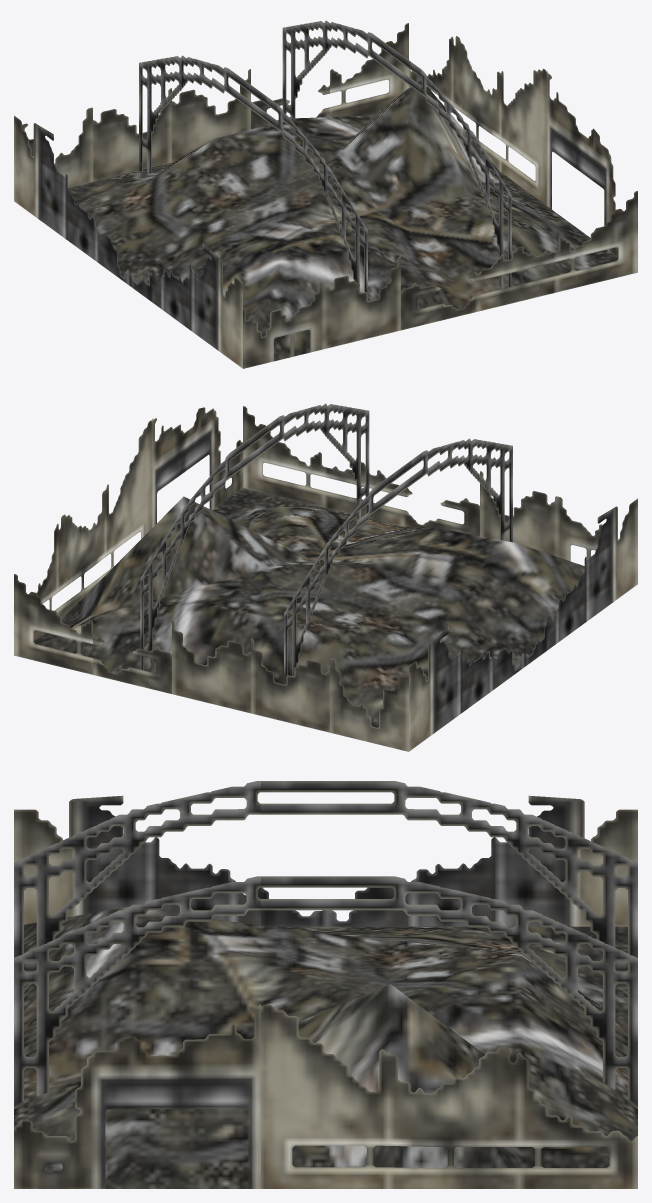
Rendered from hangar_dam.glb.
3 renders of one model, top to bottom at view 1: azimuth 30°, elevation 25°; view 2: azimuth 150°, elevation 25°; view 3: azimuth 270°, elevation 25°, orthographic. The views are drawn at different scales.
Visible parts, largest first — view 1: HangarDam; view 2: HangarDam; view 3: HangarDam.
Part boxes in pixels (<box>): HangarDam: <box>14,20,637,368</box>; HangarDam: <box>14,403,637,751</box>; HangarDam: <box>14,781,637,1188</box>.
Size of the model in its own units: 38.2 by 15.58 by 38.4.
2 materials, 2 textured.
